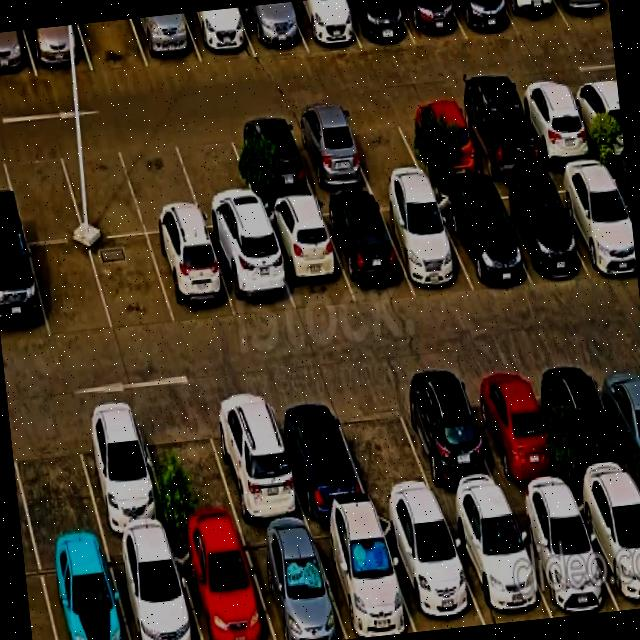empty: (137, 404, 241, 535), (331, 383, 438, 510), (9, 412, 103, 549), (172, 123, 261, 228), (57, 137, 145, 238), (118, 132, 204, 233), (0, 141, 84, 243), (88, 234, 175, 332), (28, 241, 112, 339), (339, 106, 425, 187), (78, 18, 147, 71)
occupied: (392, 373, 506, 508), (203, 390, 307, 527), (460, 366, 567, 499), (508, 494, 618, 617), (535, 358, 636, 491), (443, 501, 552, 624), (71, 407, 171, 540), (267, 390, 370, 519), (309, 515, 415, 639), (377, 511, 484, 632), (239, 525, 347, 640), (171, 530, 274, 640), (487, 179, 587, 284), (432, 186, 532, 291), (261, 202, 354, 313), (319, 195, 414, 302), (375, 191, 473, 293), (547, 166, 637, 275), (106, 537, 201, 640), (37, 543, 129, 640), (572, 483, 640, 610), (147, 229, 236, 325), (207, 224, 295, 317), (453, 92, 544, 178), (228, 117, 315, 204), (287, 112, 372, 195), (397, 99, 484, 178), (514, 84, 597, 165), (590, 354, 640, 482), (0, 241, 49, 344), (567, 78, 624, 157), (183, 7, 255, 62), (131, 13, 201, 67), (238, 2, 307, 56), (288, 0, 360, 51), (23, 24, 92, 76), (341, 0, 414, 48), (398, 0, 466, 45), (451, 0, 519, 40), (501, 0, 570, 38), (0, 29, 36, 80), (555, 0, 611, 30)
